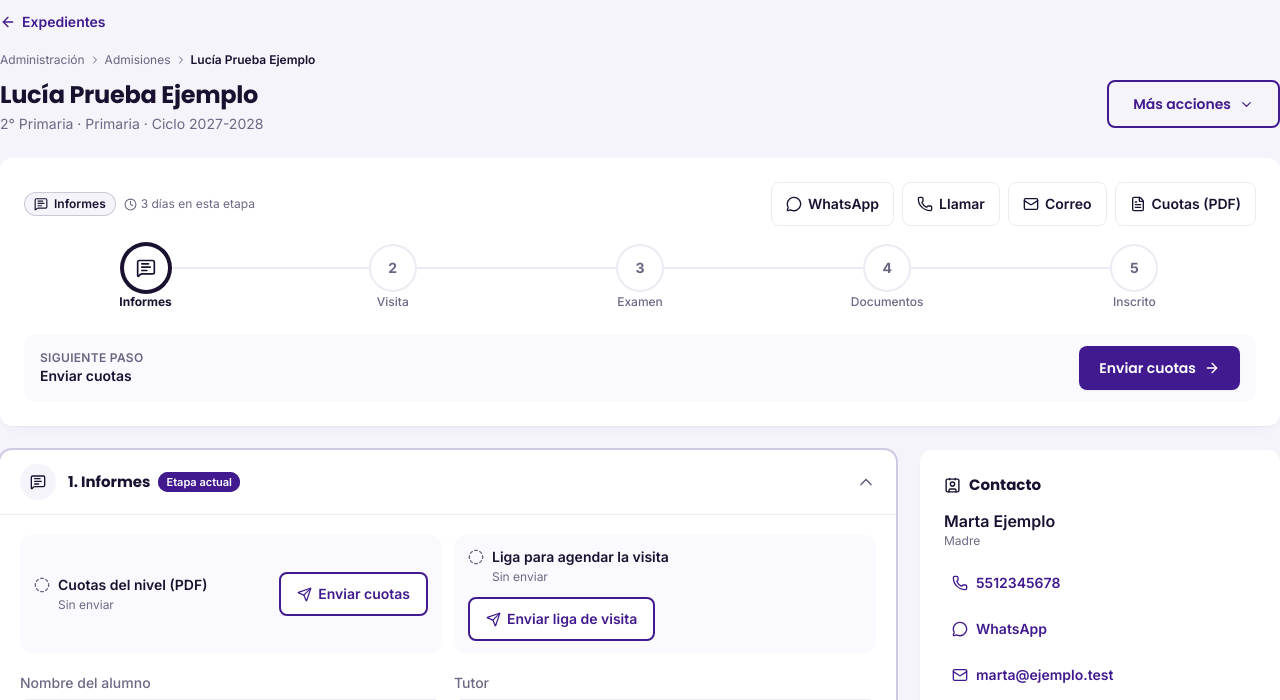
it: AdminCase (Expediente) › SendDialog › opens WhatsApp in the tab it opened inside the tap
The width and height of the screenshot is (1280, 700).
Expected: the heading "Lucía Prueba Ejemplo" is shown, [0,80,263,110]
Click the button "Enviar liga de visita" at (562, 619), box [468,597,655,641]
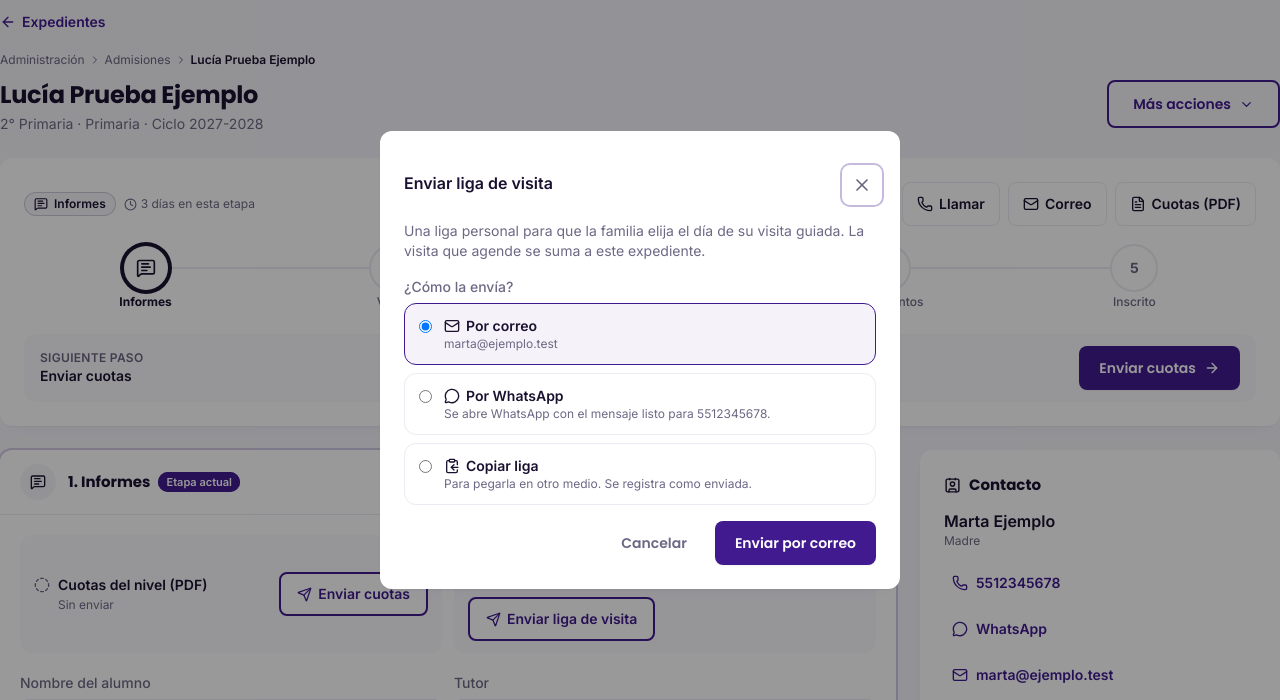
Click the radio button labelled "Por WhatsApp" at (426, 396), box [419,390,432,403]
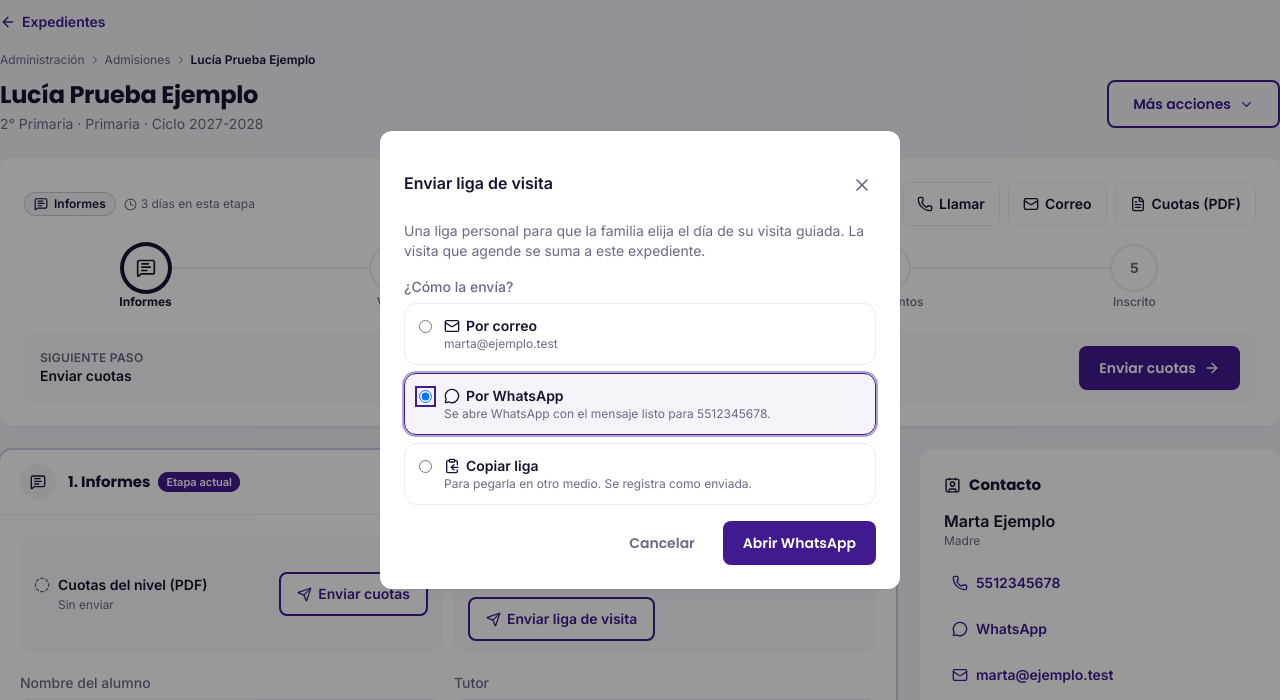
Click the button "Abrir WhatsApp" at (799, 543), box [723,521,876,565]
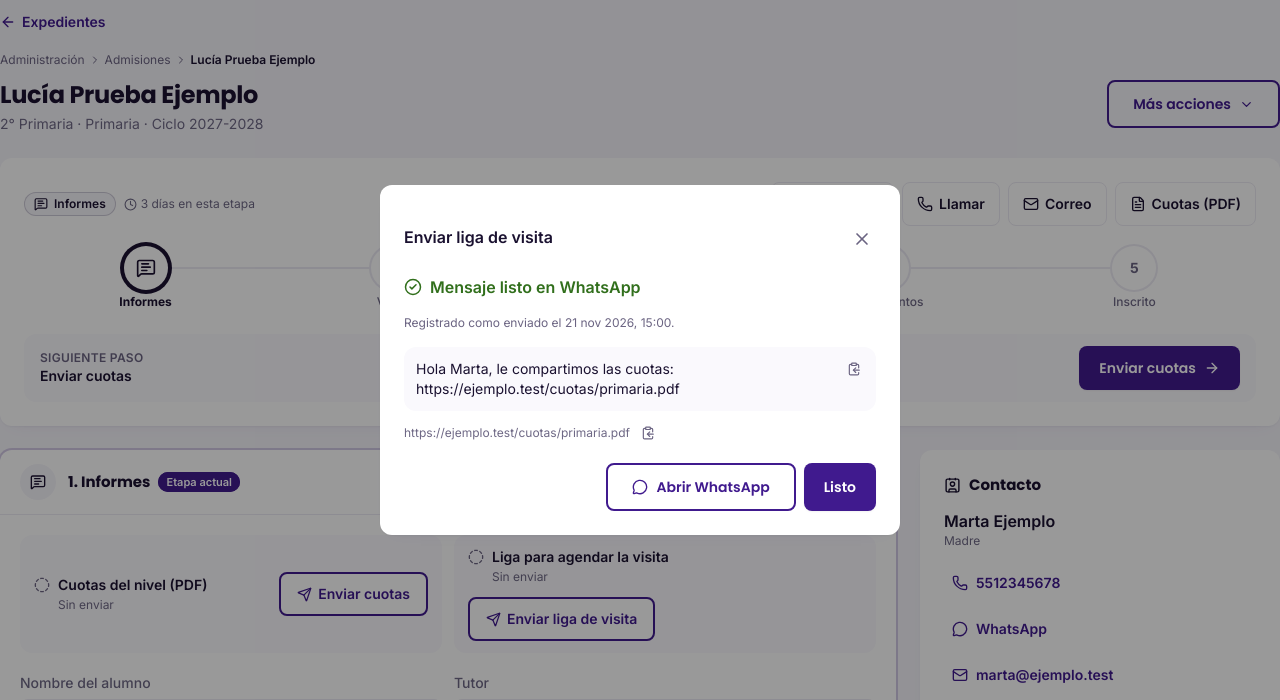
Expected: the heading "Mensaje listo en WhatsApp" is shown, [404,277,641,297]
